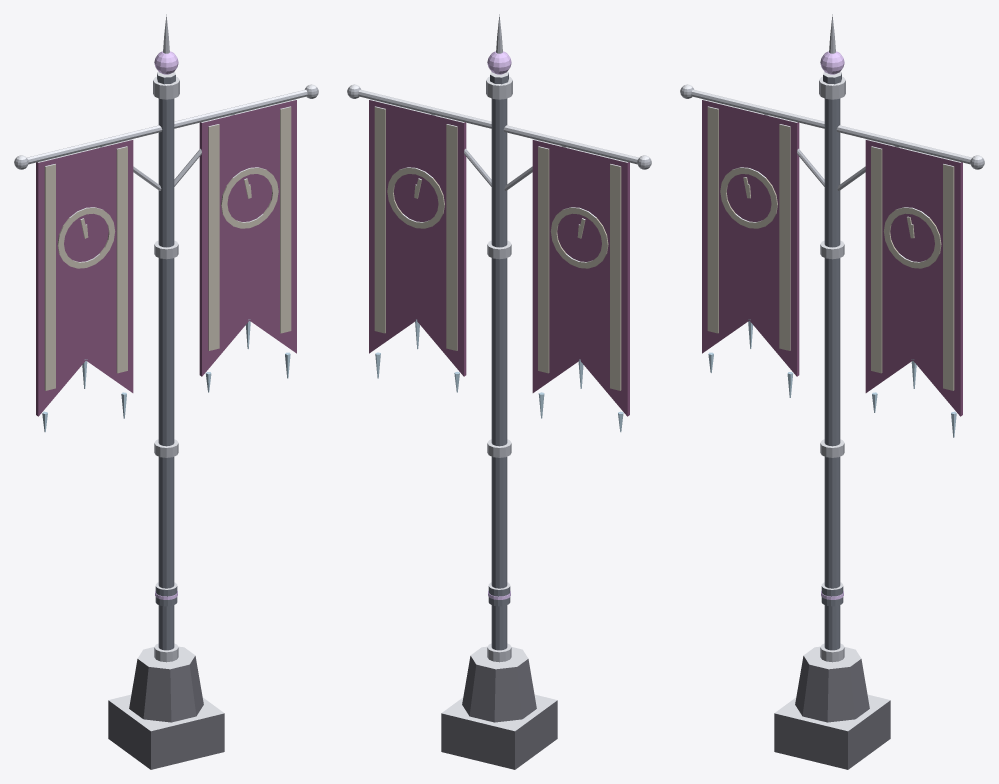
Rendered from PR_Mastro_Estandarte.fbx.
3 renders of one model, left to right at view 1: azimuth 30°, elevation 25°; view 2: azimuth 150°, elevation 25°; view 3: azimuth 330°, elevation 25°, orthographic.
Visible parts, largest first — view 1: PR_Mastro_Estandarte; view 2: PR_Mastro_Estandarte; view 3: PR_Mastro_Estandarte.
Boxes of the visible parts, box(x1,y1,x2,y2) form: PR_Mastro_Estandarte: box(14, 14, 318, 769); PR_Mastro_Estandarte: box(347, 14, 651, 769); PR_Mastro_Estandarte: box(680, 14, 984, 769).
Size of the model in its own units: 5.74 by 13.25 by 1.4.
